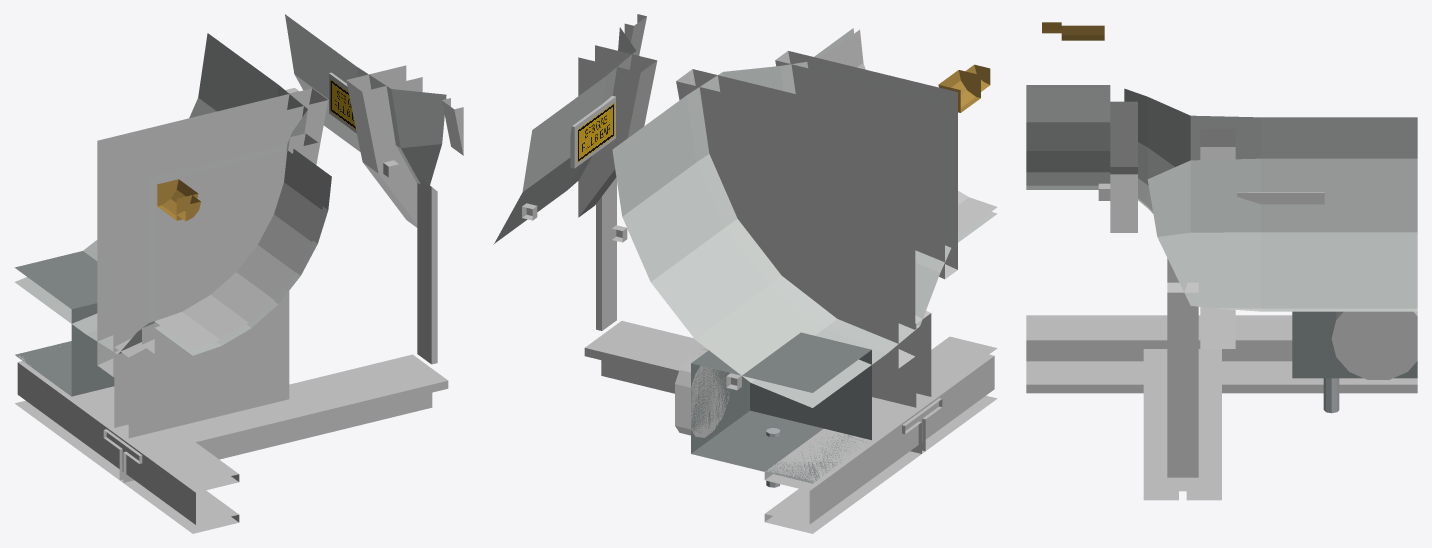
File: cell_51.obj
3 renders of one model, left to right at view 1: azimuth 30°, elevation 25°; view 2: azimuth 150°, elevation 25°; view 3: azimuth 270°, elevation 25°, orthographic. The views are drawn at different scales.
Size of the model in its own units: 1 by 1 by 1.
